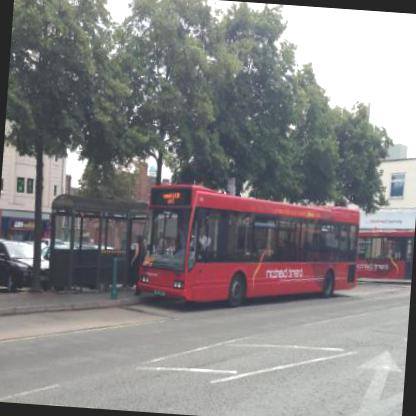bus: (132, 178, 366, 314), (353, 221, 415, 283)
